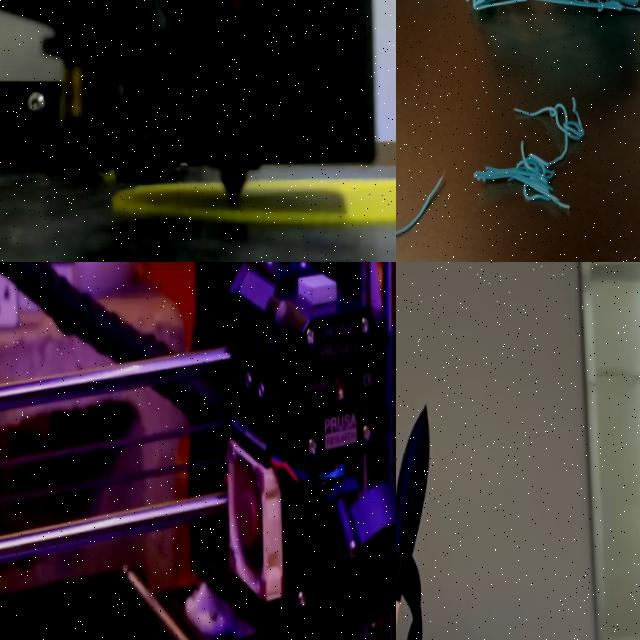spaghetti: (467, 93, 615, 230), (467, 0, 640, 59), (396, 170, 457, 261)
